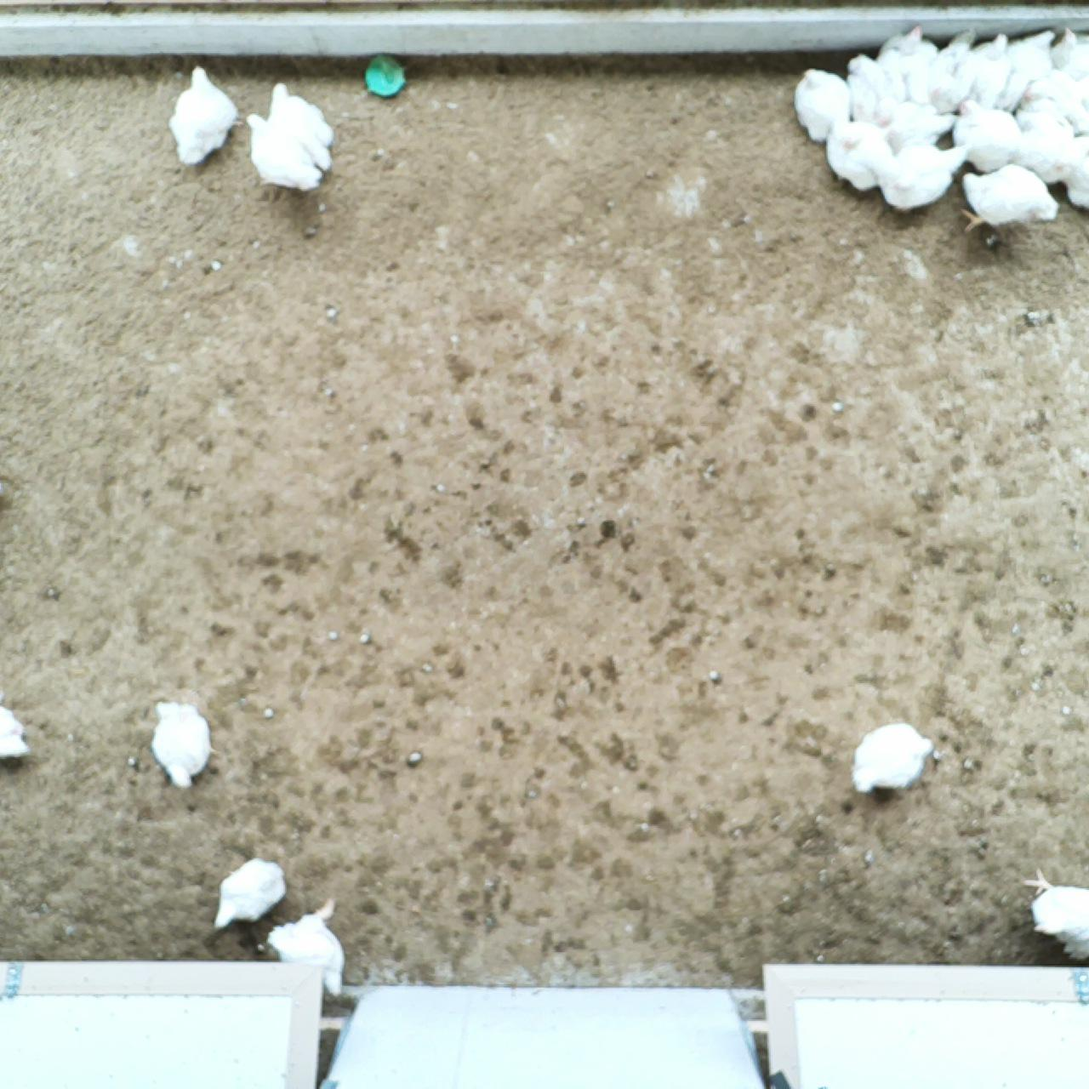chicken: (854, 140, 972, 217), (265, 894, 347, 1001), (164, 61, 244, 169), (956, 163, 1061, 235), (242, 109, 326, 197), (146, 696, 222, 793), (1016, 864, 1089, 964), (262, 79, 337, 175), (848, 719, 936, 795), (208, 855, 288, 933), (823, 116, 896, 192), (953, 98, 1023, 174), (877, 22, 939, 103), (870, 100, 957, 157), (790, 66, 852, 144), (1001, 28, 1056, 115), (927, 25, 979, 113), (1019, 69, 1089, 132), (843, 51, 898, 126), (964, 30, 1013, 107), (1015, 121, 1071, 185), (1049, 24, 1089, 82), (0, 704, 35, 764), (1064, 134, 1089, 208)
